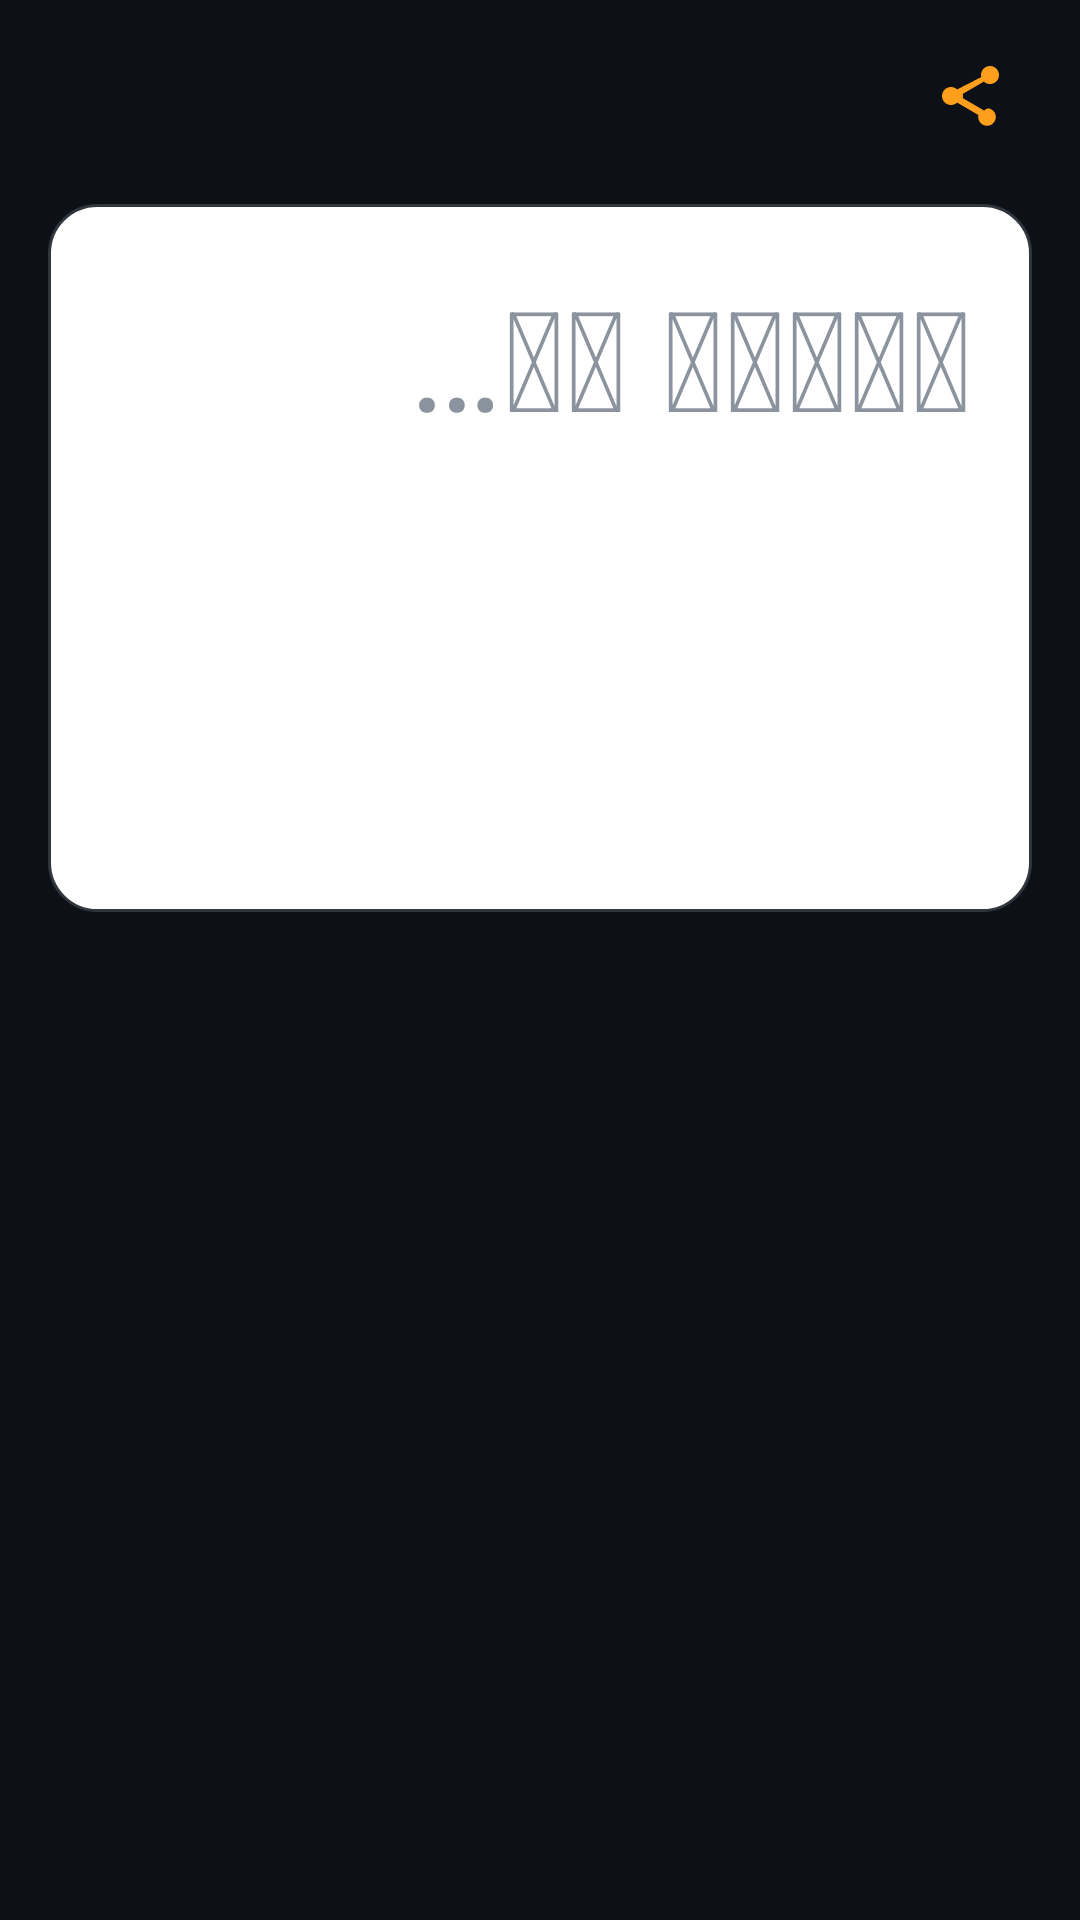

Icon click points for this 1080 × 1920 phone screenshot, format [x,y]:
Partager le texte en image: [970,96]
